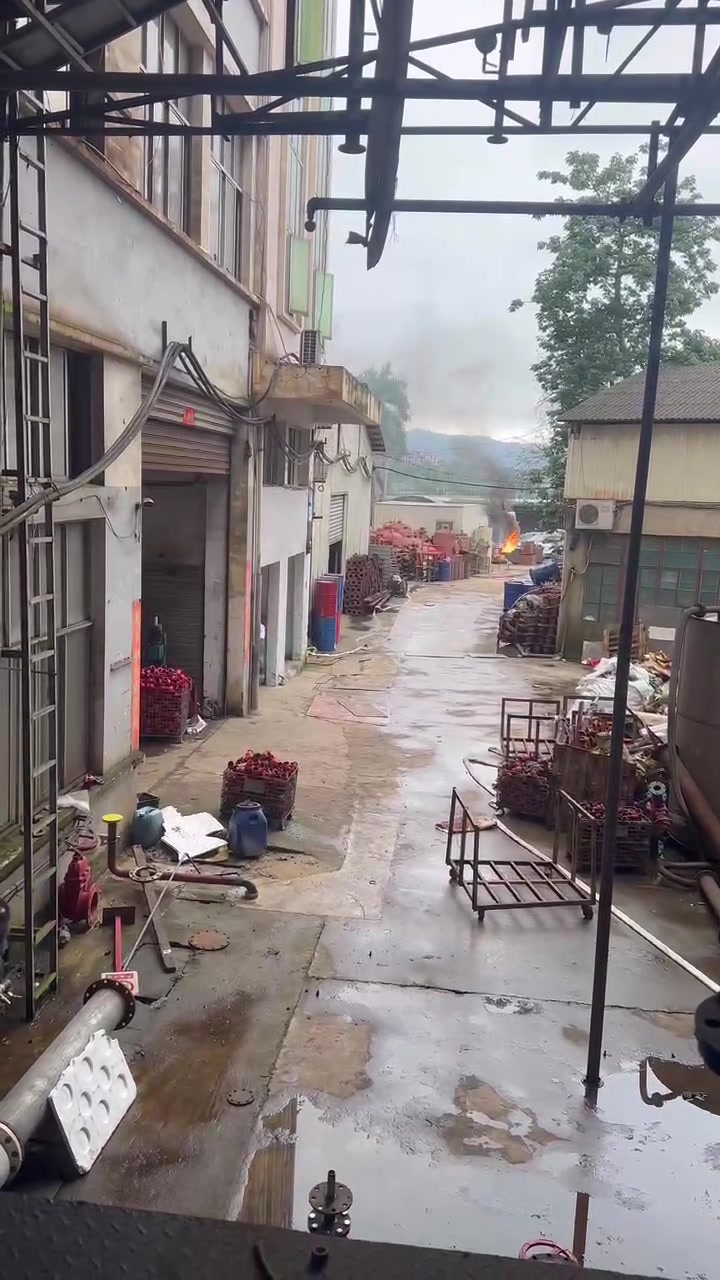fire: (500, 530, 517, 551)
